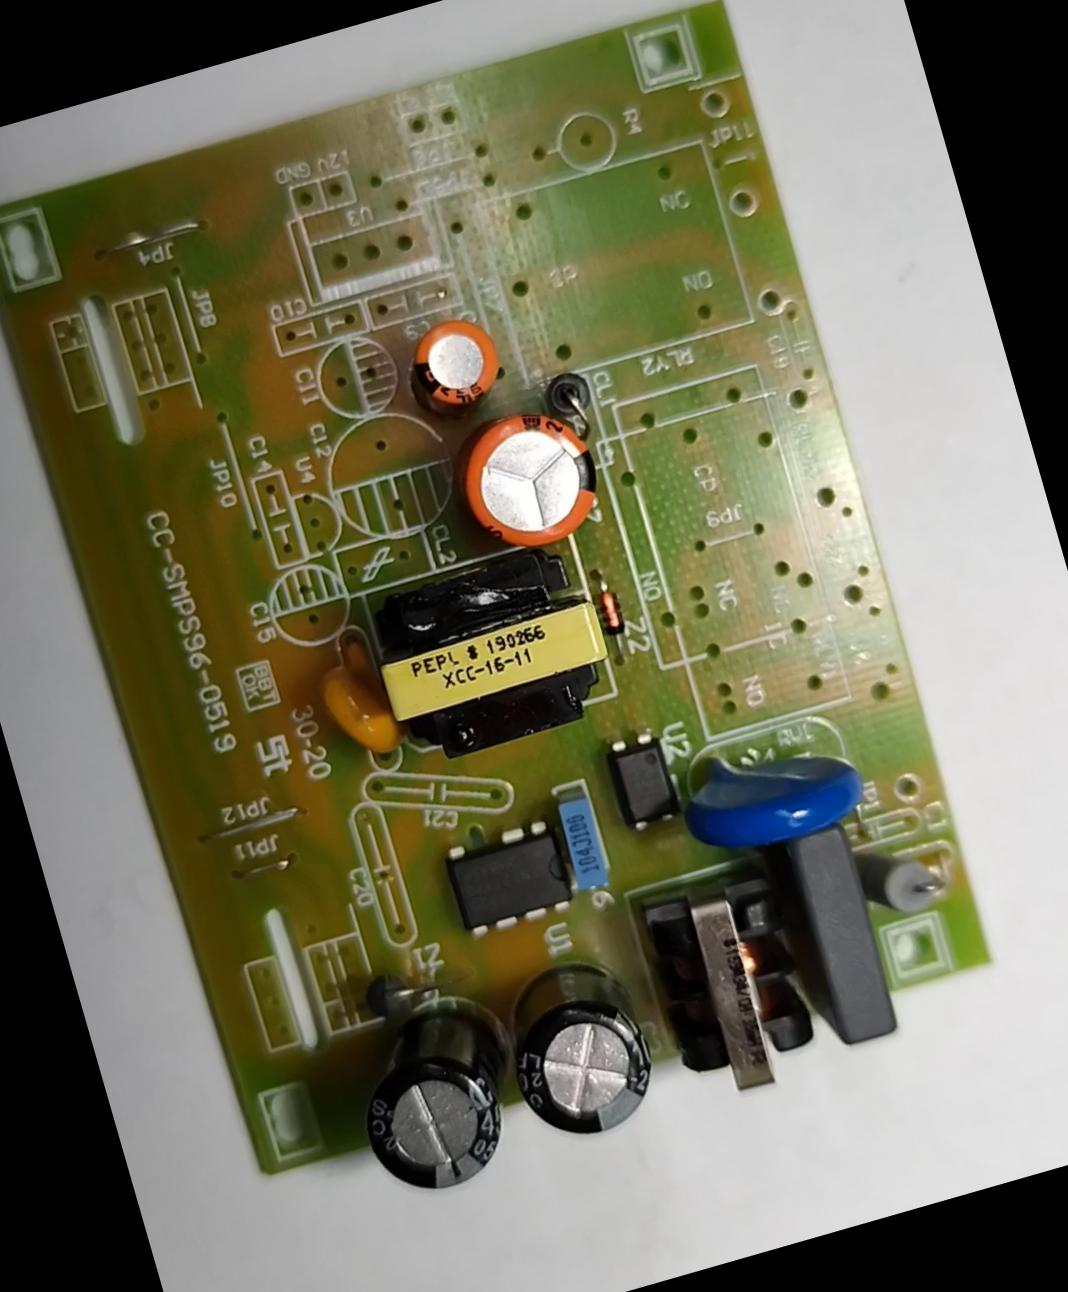Cap1: (447, 392, 613, 563)
Cap2: (396, 306, 513, 417)
Cap3: (486, 946, 673, 1157)
Cap4: (336, 982, 532, 1202)
MOSFET: (441, 813, 581, 941)
Mov: (670, 719, 878, 871)
Resistor: (853, 832, 955, 930)
Transformer: (353, 534, 628, 774), (626, 858, 832, 1116)
